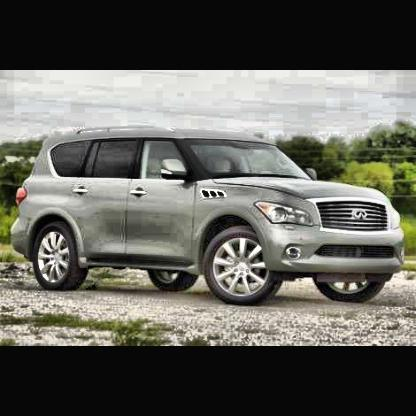Infiniti QX56 SUV 2011: (9, 125, 409, 309)
